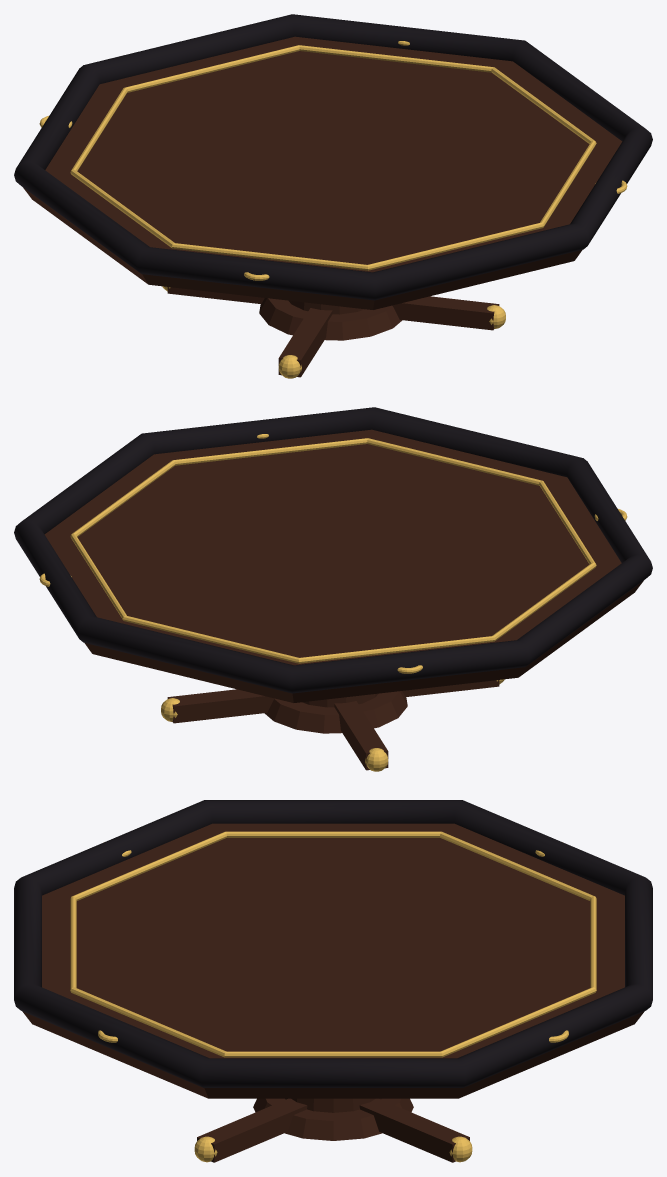
File: card_table.glb
3 renders of one model, top to bottom at view 1: azimuth 30°, elevation 25°; view 2: azimuth 150°, elevation 25°; view 3: azimuth 270°, elevation 25°, orthographic. The views are drawn at different scales.
Visible parts, largest first — view 1: card_table_wood, card_table_bolster, card_table_brass; view 2: card_table_wood, card_table_bolster, card_table_brass; view 3: card_table_wood, card_table_bolster, card_table_brass.
Boxes of the visible parts, <box> form: card_table_wood: <box>23,36,622,377</box>; card_table_bolster: <box>14,14,652,300</box>; card_table_brass: <box>39,41,627,378</box>; card_table_wood: <box>44,429,643,770</box>; card_table_bolster: <box>14,407,652,693</box>; card_table_brass: <box>39,434,627,771</box>; card_table_wood: <box>22,823,644,1162</box>; card_table_bolster: <box>14,800,652,1087</box>; card_table_brass: <box>70,831,596,1162</box>.
Size of the model in its own units: 2.86 by 0.876 by 2.86.
